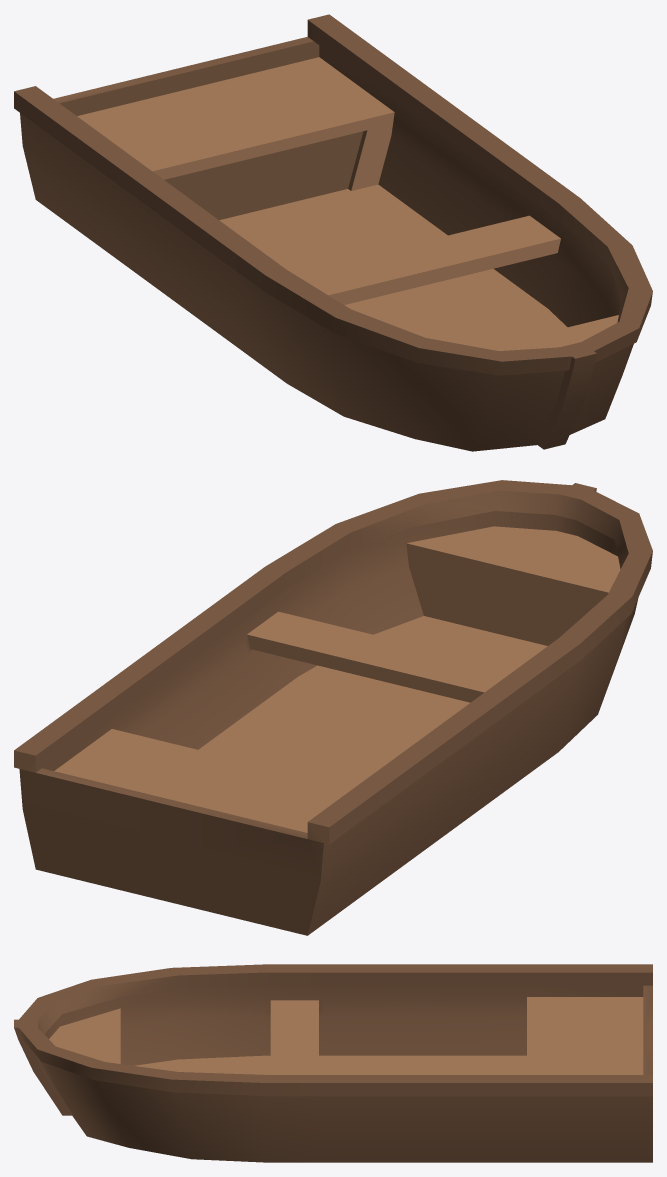
The model's file is SimpleBoat.fbx.
The picture shows the model from 3 angles, top to bottom: view 1: azimuth 30°, elevation 25°; view 2: azimuth 150°, elevation 25°; view 3: azimuth 270°, elevation 25°; orthographic projection. The views are drawn at different scales.
Visible parts, largest first — view 1: SimpleBoat; view 2: SimpleBoat; view 3: SimpleBoat.
Part boxes in pixels (x1=…): SimpleBoat: x1=14, y1=14, x2=652, y2=451; SimpleBoat: x1=14, y1=480, x2=652, y2=935; SimpleBoat: x1=14, y1=964, x2=652, y2=1162.
Bounding box in the file's own units: 290 × 100 × 660.
